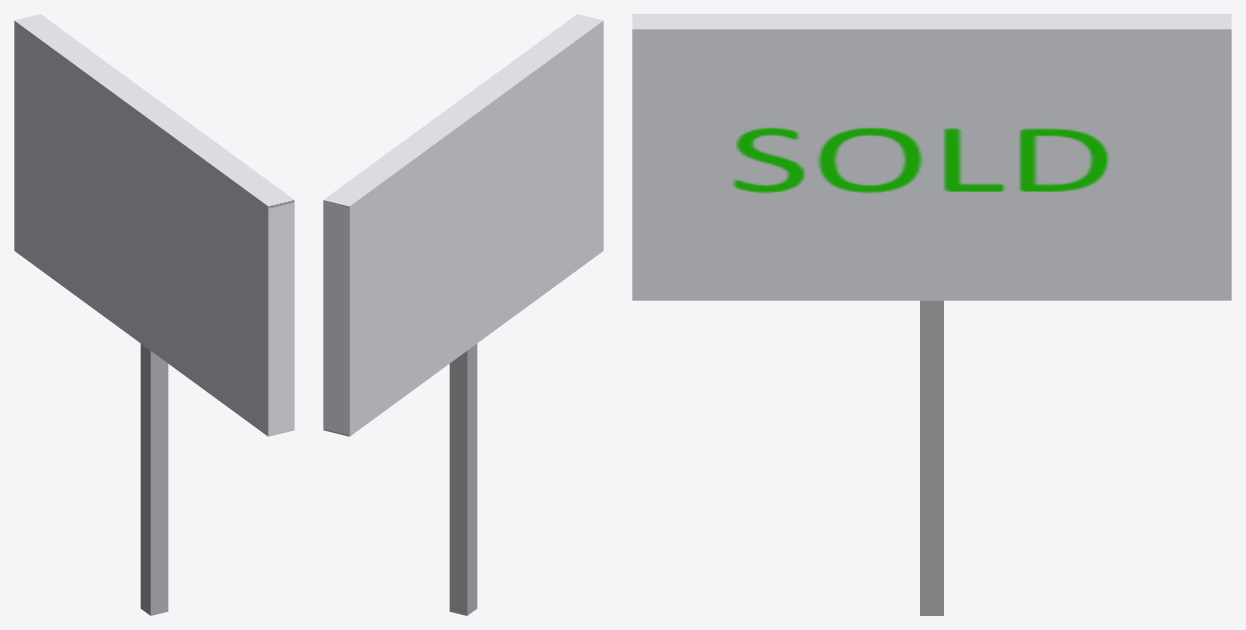
File: sign_sold.obj
3 renders of one model, left to right at view 1: azimuth 30°, elevation 25°; view 2: azimuth 150°, elevation 25°; view 3: azimuth 270°, elevation 25°, orthographic. The views are drawn at different scales.
Parts seen in each view (by area): view 1: Cube.001, Cube; view 2: Cube.001, Cube; view 3: Cube.001, Cube.
Boxes of the visible parts, x1,y1,x2,y2 form: Cube.001: [14, 14, 294, 436]; Cube: [140, 343, 168, 615]; Cube.001: [323, 14, 603, 436]; Cube: [449, 343, 477, 615]; Cube.001: [632, 14, 1231, 300]; Cube: [920, 300, 943, 615].
Size of the model in its own units: 0.06 by 1.09 by 1.
